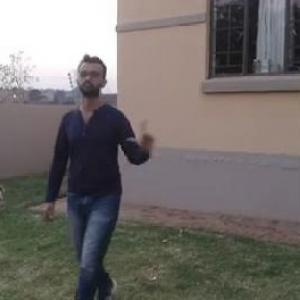land_hand: (127, 115, 159, 158)
